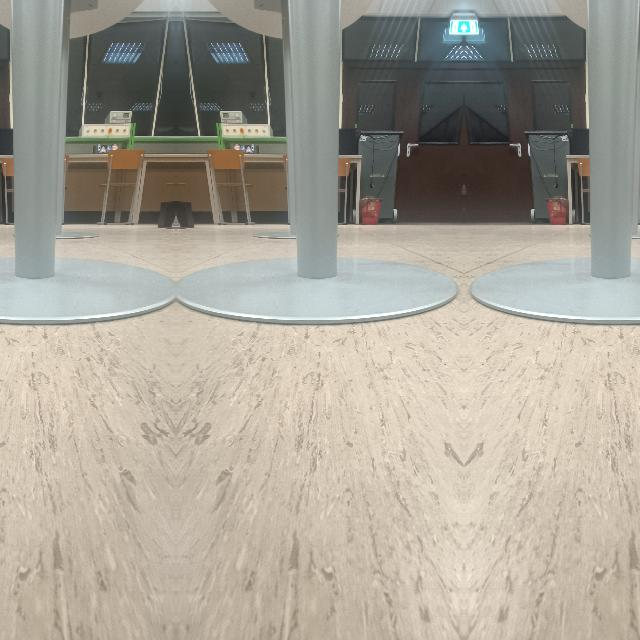obstacle: (183, 85, 459, 329), (468, 85, 640, 329), (0, 85, 167, 329)
